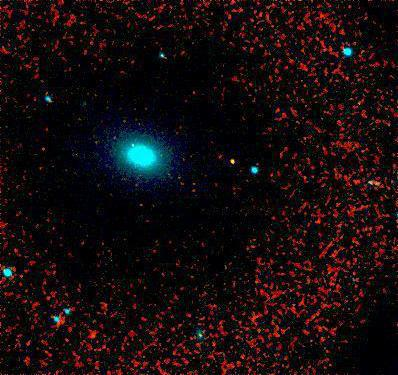star: (219, 147, 249, 177)
